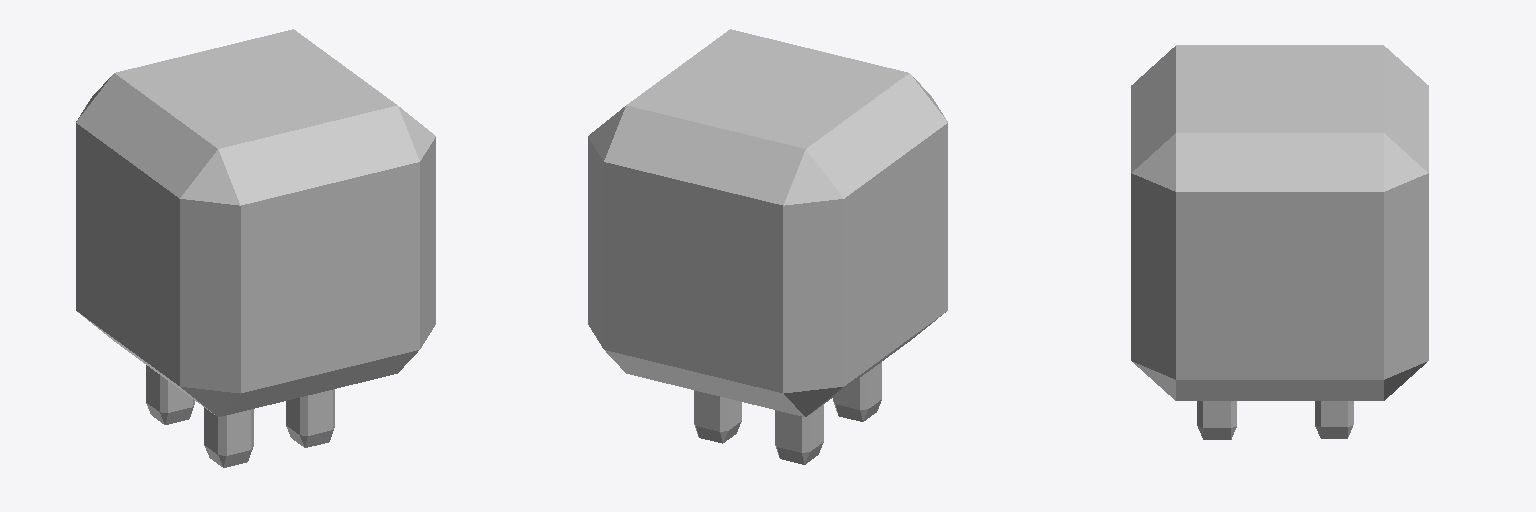
File: Uier.obj
3 renders of one model, left to right at view 1: azimuth 30°, elevation 25°; view 2: azimuth 150°, elevation 25°; view 3: azimuth 270°, elevation 25°, orthographic.
Visible parts, largest first — view 1: pCube2 Uier, Uier group6 pasted__pasted__pasted__pCube2 pasted__pasted__group, Uier pasted__pasted__pCube2 pasted__group4 group5, Uier pasted__pasted__pCube2 pasted__group4 group6; view 2: pCube2 Uier, Uier pasted__pasted__pCube2 pasted__group4 group6, Uier pasted__pCube2 group4, Uier group6 pasted__pasted__pasted__pCube2 pasted__pasted__group; view 3: pCube2 Uier, Uier pasted__pasted__pCube2 pasted__group4 group5, Uier pasted__pCube2 group4.
Boxes of the visible parts, x1,y1,x2,y2 form: pCube2 Uier: [76, 29, 435, 416]; Uier group6 pasted__pasted__pasted__pCube2 pasted__pasted__group: [204, 407, 253, 467]; Uier pasted__pasted__pCube2 pasted__group4 group5: [286, 389, 334, 447]; Uier pasted__pasted__pCube2 pasted__group4 group6: [146, 365, 194, 424]; pCube2 Uier: [588, 29, 947, 416]; Uier pasted__pasted__pCube2 pasted__group4 group6: [775, 404, 823, 464]; Uier pasted__pCube2 group4: [694, 390, 741, 443]; Uier group6 pasted__pasted__pasted__pCube2 pasted__pasted__group: [833, 362, 881, 421]; pCube2 Uier: [1131, 45, 1428, 400]; Uier pasted__pasted__pCube2 pasted__group4 group5: [1197, 401, 1236, 439]; Uier pasted__pCube2 group4: [1315, 401, 1353, 438].
Bounding box in the file's own units: 0.784 × 0.9749 × 0.787.